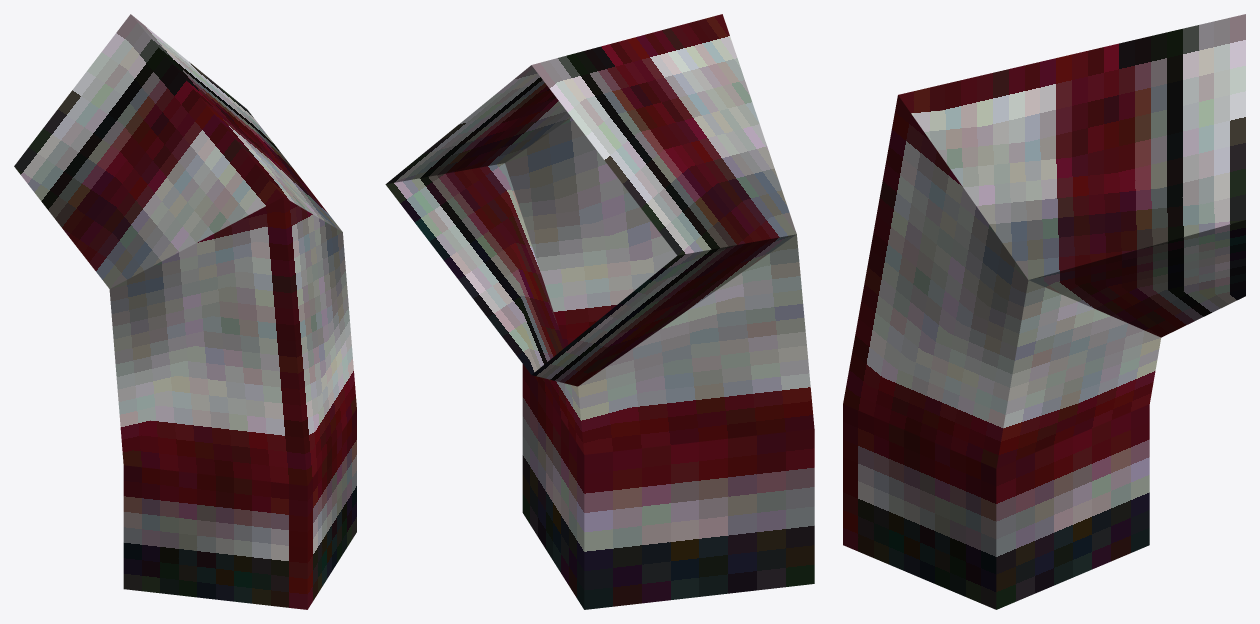
3 renders of one model, left to right at view 1: azimuth 30°, elevation 25°; view 2: azimuth 150°, elevation 25°; view 3: azimuth 270°, elevation 25°, orthographic. The views are drawn at different scales.
Visible parts, largest first — view 1: prim160-deck funnel; view 2: prim160-deck funnel; view 3: prim160-deck funnel.
Part boxes in pixels (x1,y1,x2,y2): prim160-deck funnel: [14, 14, 356, 609]; prim160-deck funnel: [385, 14, 814, 609]; prim160-deck funnel: [843, 14, 1245, 609].
Size of the model in its own units: 134 by 256 by 176.
Materials: 1 (1 with a texture image).
